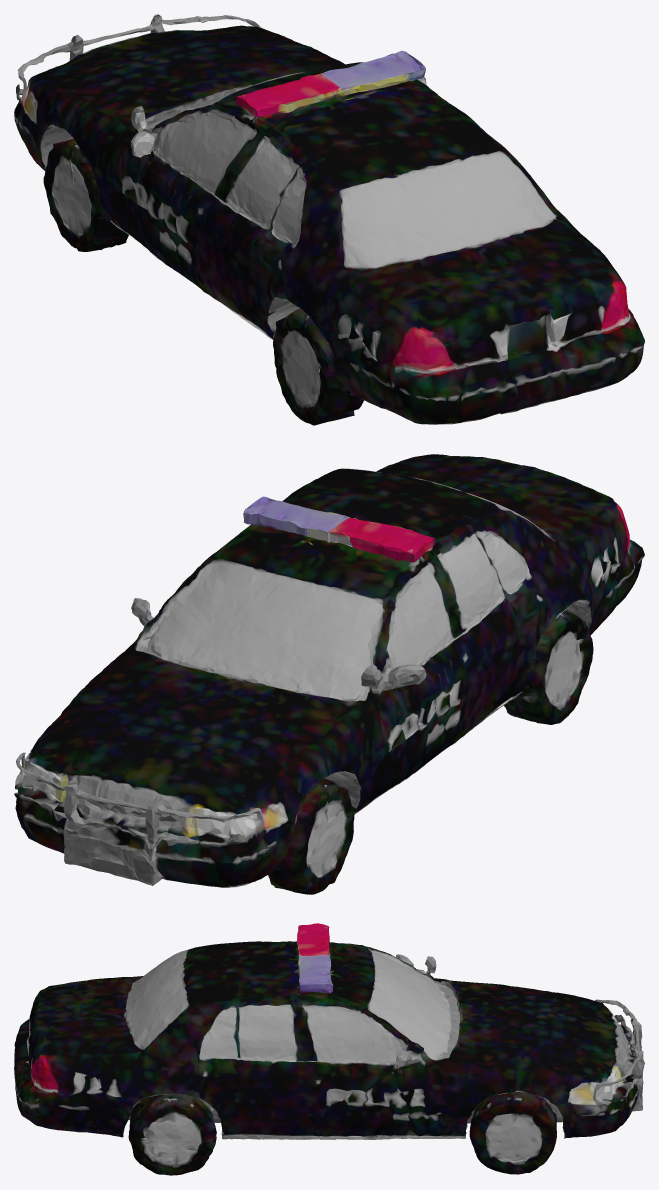
The picture shows the model from 3 angles, top to bottom: view 1: azimuth 30°, elevation 25°; view 2: azimuth 150°, elevation 25°; view 3: azimuth 270°, elevation 25°; orthographic projection. The views are drawn at different scales.
Visible parts, largest first — view 1: defaultobject; view 2: defaultobject; view 3: defaultobject.
Boxes of the visible parts, x1,y1,x2,y2 form: defaultobject: (14,14,644,425); defaultobject: (14,454,644,894); defaultobject: (14,923,644,1175).
Size of the model in its own units: 0.3722 by 0.2927 by 0.9526.
